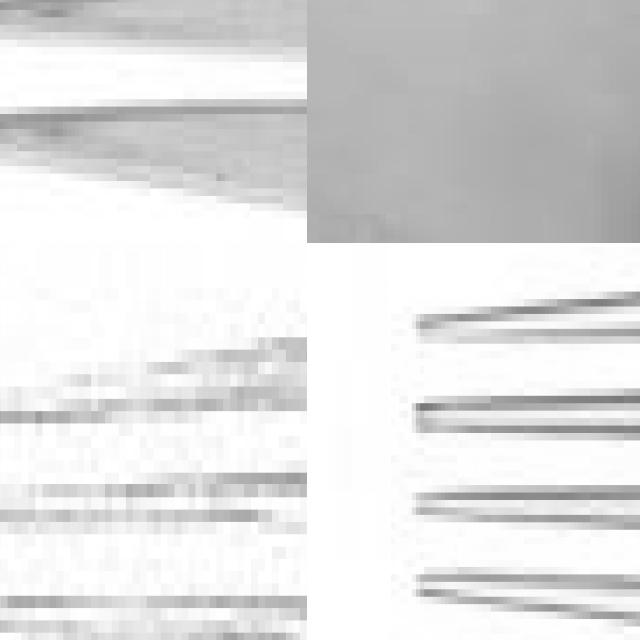forks: (0, 243, 307, 640), (385, 243, 640, 640), (0, 0, 307, 243)
